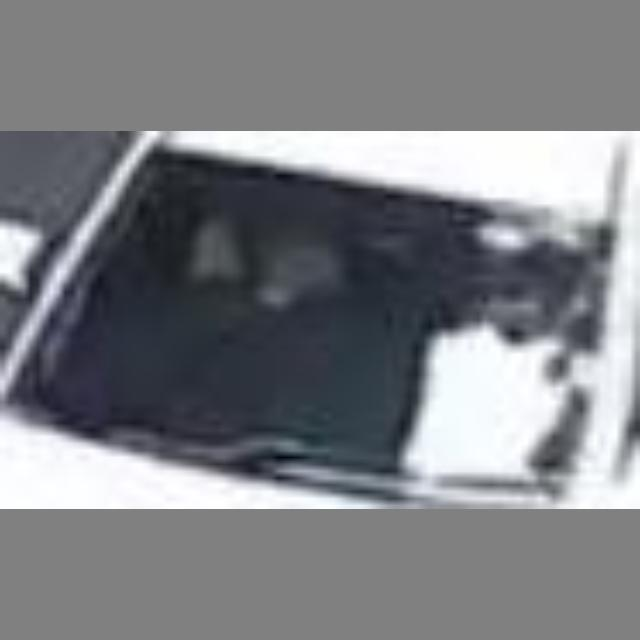tidak-pakai: (172, 193, 358, 365)
